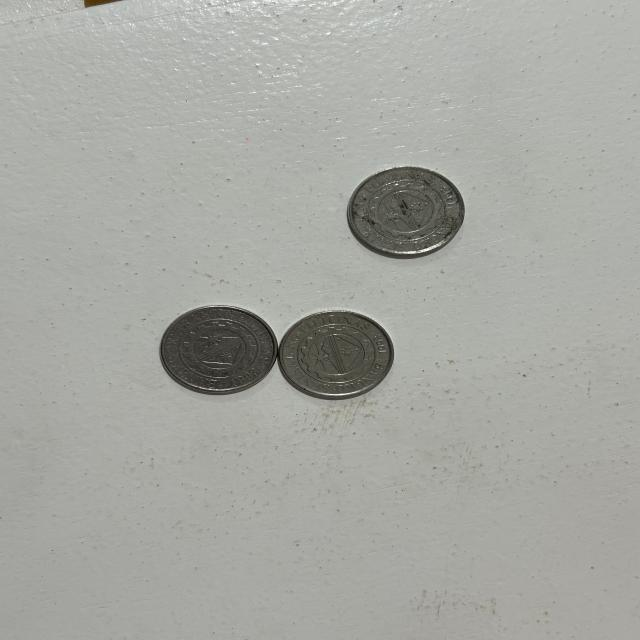1_Old_Back: (294, 321, 380, 387), (361, 178, 451, 241), (176, 317, 263, 381)
